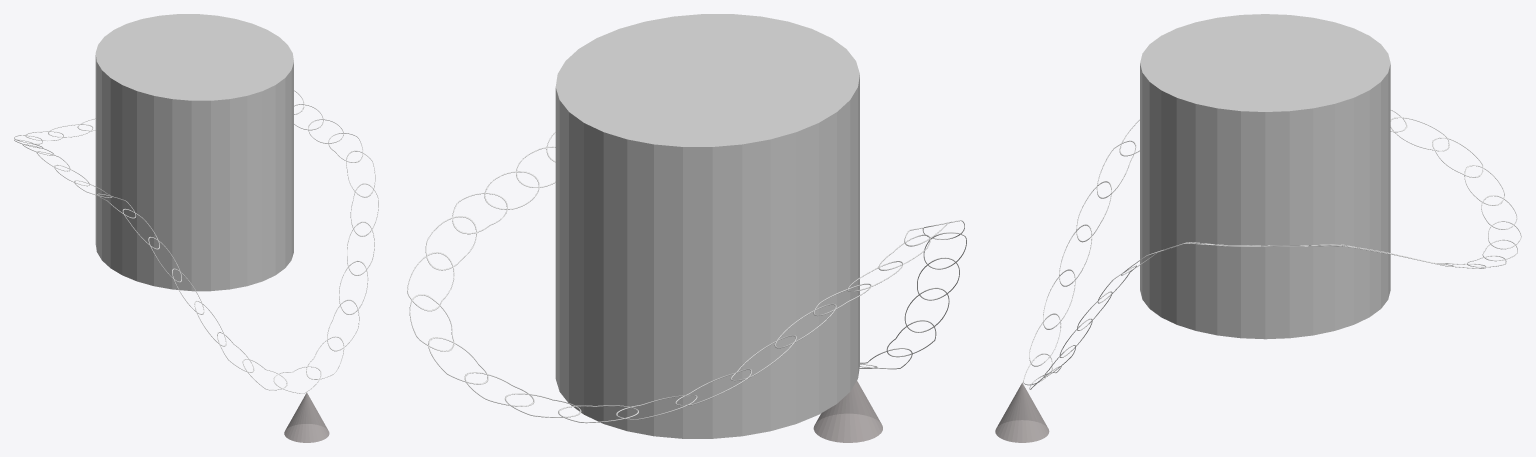
File: necklace_2.glb
3 views of the same model, side by side, from view 1: azimuth 30°, elevation 25°; view 2: azimuth 150°, elevation 25°; view 3: azimuth 270°, elevation 25° (orthographic). The views are drawn at different scales.
Parts seen in each view (by area): view 1: neck_helper, 環體, 圓錐體; view 2: neck_helper, 環體, 圓錐體; view 3: neck_helper, 環體, 圓錐體.
Boxes of the visible parts, x1=… form: neck_helper: x1=95, y1=14, x2=293, y2=291; 環體: x1=14, y1=90, x2=378, y2=393; 圓錐體: x1=284, y1=392, x2=329, y2=442; neck_helper: x1=555, y1=14, x2=859, y2=438; 環體: x1=407, y1=132, x2=966, y2=423; 圓錐體: x1=813, y1=381, x2=882, y2=442; neck_helper: x1=1140, y1=14, x2=1390, y2=339; 環體: x1=1023, y1=110, x2=1521, y2=389; 圓錐體: x1=995, y1=382, x2=1049, y2=442.
Bounding box in the file's own units: 2.27 × 2.55 × 3.35.
2 materials, 1 textured.
